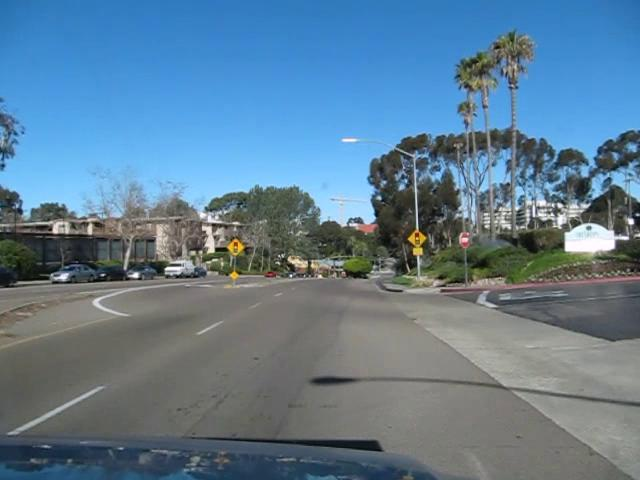signalAhead: (225, 237, 246, 257), (407, 228, 427, 248)
